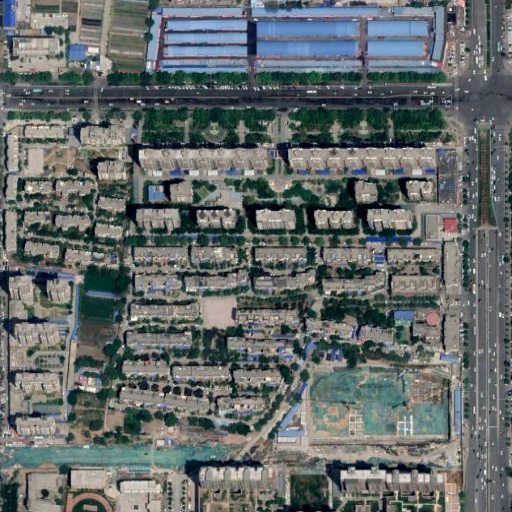cw: (310, 367, 449, 443), (4, 445, 239, 466)
